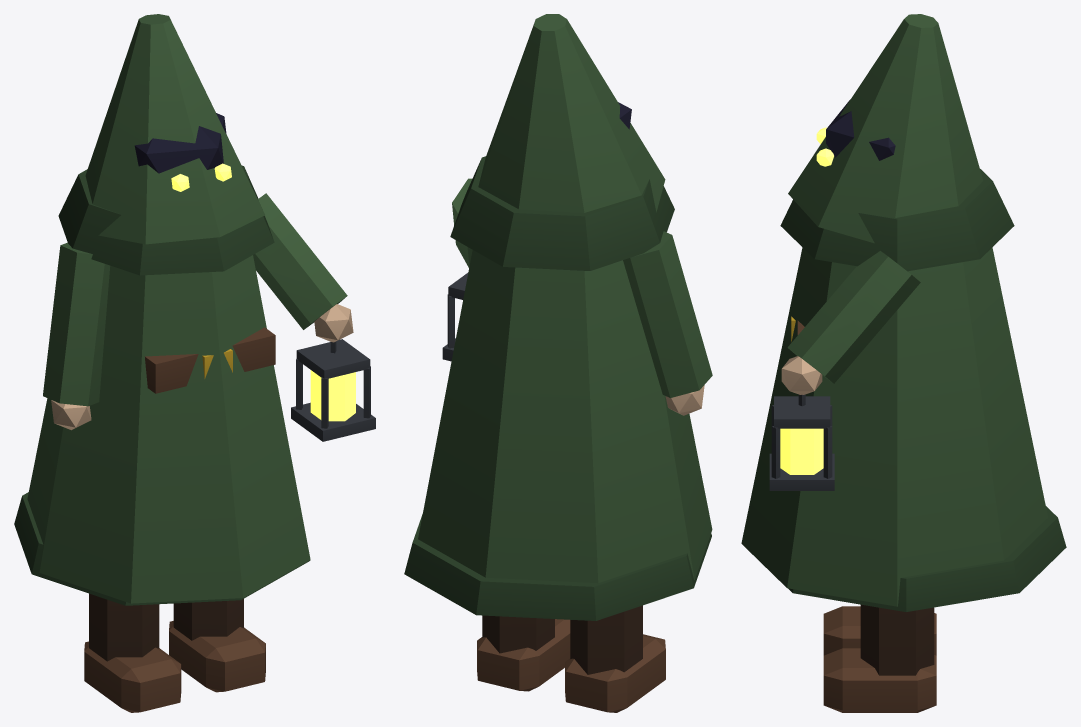
File: hero.glb
3 views of the same model, side by side, from view 1: azimuth 30°, elevation 25°; view 2: azimuth 150°, elevation 25°; view 3: azimuth 270°, elevation 25° (orthographic). The views are drawn at different scales.
Parts seen in each view (by area): view 1: hero; view 2: hero; view 3: hero.
Part boxes in pixels (bbox=[...]): hero: bbox=[14, 14, 375, 712]; hero: bbox=[404, 14, 712, 712]; hero: bbox=[741, 14, 1066, 712].
Size of the model in its own units: 0.8 by 1.8 by 0.8.
